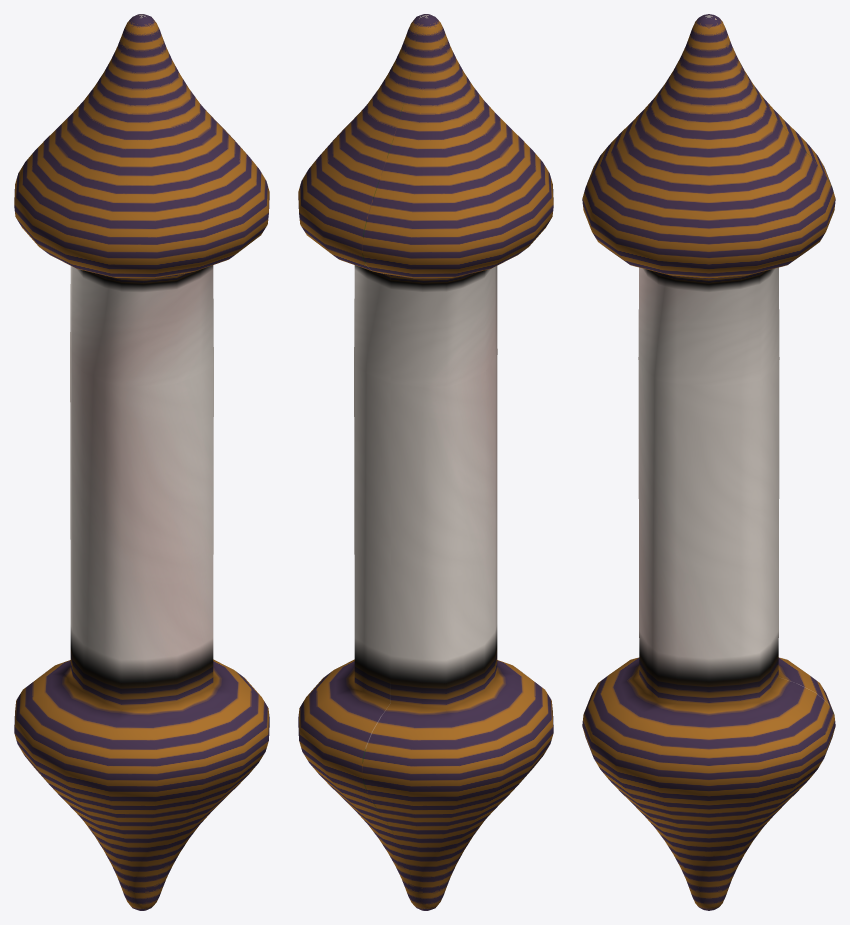
File: Zwiebel_C_02.fbx
3 views of the same model, side by side, from view 1: azimuth 30°, elevation 25°; view 2: azimuth 150°, elevation 25°; view 3: azimuth 270°, elevation 25° (orthographic).
Parts seen in each view (by area): view 1: Zwiebel_C_02; view 2: Zwiebel_C_02; view 3: Zwiebel_C_02.
Part boxes in pixels (left/top/right/bottom): Zwiebel_C_02: left=14, top=14, right=269, bottom=910; Zwiebel_C_02: left=298, top=14, right=553, bottom=910; Zwiebel_C_02: left=582, top=14, right=835, bottom=910.
Size of the model in its own units: 46.25 by 180 by 46.25.
